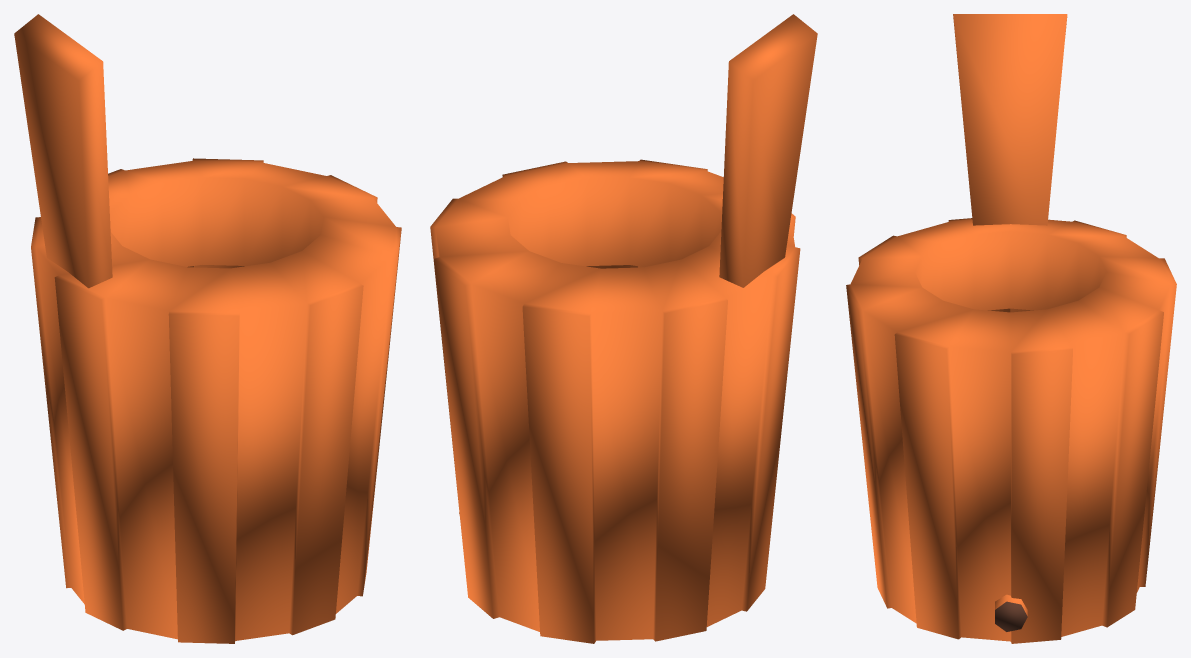
File: kiulu.fbx
3 renders of one model, left to right at view 1: azimuth 30°, elevation 25°; view 2: azimuth 150°, elevation 25°; view 3: azimuth 270°, elevation 25°, orthographic. The views are drawn at different scales.
Parts seen in each view (by area): view 1: kiulu; view 2: kiulu; view 3: kiulu.
Part boxes in pixels (bbox=[...]): kiulu: bbox=[14, 14, 401, 643]; kiulu: bbox=[430, 14, 817, 643]; kiulu: bbox=[846, 14, 1176, 643].
Size of the model in its own units: 24.52 by 40.83 by 23.96.
